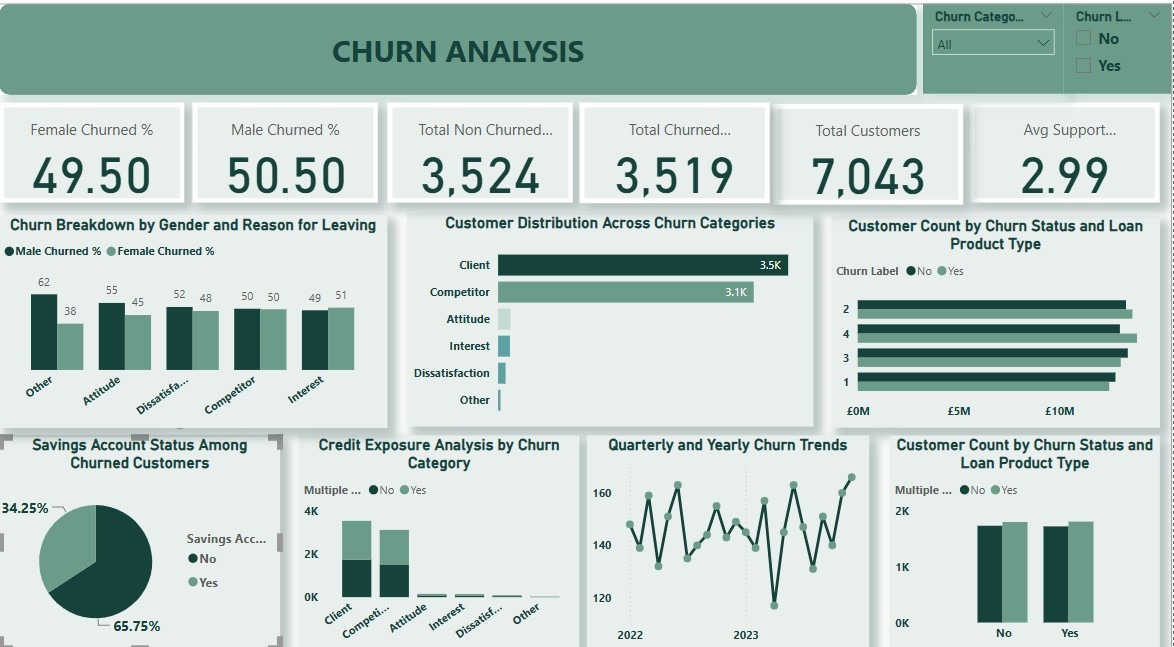

The page's visual inventory and layout, read from the dashboard file:
{"tool":"powerbi","page":{"name":"Page 1","canvas":[1280,720],"ordinal":0},"visuals":[{"type":"shape","box":[13,11.3,991,98.8],"z":0,"group":"g1"},{"type":"slicer","fields":{"Values":["CHURN DATASET.Churn Label"]},"box":[1162.7,11.3,116.6,97.2],"z":1000,"group":"g1"},{"type":"barChart","title":"Customer Distribution Across Churn Categories","fields":{"Category":["CHURN DATASET.Churn Category"],"Y":["CHURN DATASET.Total Customer"]},"box":[453.4,238,438.8,229.9],"z":2000,"group":"g1"},{"type":"pieChart","title":"Savings Account Status Among Churned Customers","fields":{"Y":["CHURN DATASET.Total Customer"],"Category":["CHURN DATASET.Savings Account"]},"box":[13,477,304,233],"z":3000,"group":"g1"},{"type":"clusteredBarChart","title":"Customer Count by Churn Status and Loan Product Type","fields":{"Category":["CHURN DATASET.Tenure_Years"],"Y":["Sum(CHURN DATASET. Credit  Exposure )"],"Series":["CHURN DATASET.Churn Label"]},"box":[911.7,241.2,354.6,228.3],"z":4000,"group":"g1"},{"type":"clusteredColumnChart","title":"Customer Count by Churn Status and Loan Product Type","fields":{"Category":["CHURN DATASET.Churn Label"],"Series":["CHURN DATASET.Multiple Loan Product"],"Y":["CHURN DATASET.Total Customer"]},"box":[974.8,477.6,291.5,231.5],"z":5000,"group":"g1"},{"type":"columnChart","title":"Credit Exposure Analysis by Churn Category ","fields":{"Category":["CHURN DATASET.Churn Category"],"Y":["CountNonNull(CHURN DATASET. Credit  Exposure )"],"Series":["CHURN DATASET.Multiple Loan Product"]},"box":[336.8,477.6,302.8,233.2],"z":6000,"group":"g1"},{"type":"cardVisual","fields":{"Data":["CHURN DATASET.Female Churned %"]},"box":[13,118.2,200,108],"z":7000,"group":"g1"},{"type":"cardVisual","fields":{"Data":["CHURN DATASET.Male Churned %"]},"box":[222.5,118.2,200,108],"z":8000,"group":"g1"},{"type":"clusteredColumnChart","title":"Churn Breakdown by Gender and Reason for Leaving","fields":{"Category":["CHURN DATASET.Churn Category"],"Y":["CHURN DATASET.Male Churned %","CHURN DATASET.Female Churned %"]},"box":[13,239.6,419.4,229.9],"z":9000,"group":"g1"},{"type":"cardVisual","fields":{"Data":["CHURN DATASET.Total Non Churned Customers"]},"box":[432.1,118.2,200,108],"z":10000,"group":"g1"},{"type":"cardVisual","fields":{"Data":["CHURN DATASET.Avg Support Interactions (Churned)"]},"box":[1060.6,118.2,205,108],"z":11000,"group":"g1"},{"type":"lineChart","title":"Quarterly and Yearly Churn Trends","fields":{"Category":["CHURN DATASET.Churn Date.Variation.Date Hierarchy.Year","CHURN DATASET.Churn Date.Variation.Date Hierarchy.Quarter","CHURN DATASET.Churn Date.Variation.Date Hierarchy.Month"],"Y":["CHURN DATASET.Monthly Churn Count"]},"box":[647.7,477.6,304.4,233.2],"z":12000,"group":"g1"},{"type":"slicer","fields":{"Values":["CHURN DATASET.Churn Category"]},"box":[1010.4,11.3,152.2,97.2],"z":13000,"group":"g1"},{"type":"cardVisual","fields":{"Data":["CHURN DATASET.Total Customer"]},"box":[848.5,119.8,205.6,108.5],"z":14000,"group":"g1"},{"type":"cardVisual","fields":{"Data":["CHURN DATASET.Total Churned Customers"]},"box":[639.6,118.2,205.6,108.5],"z":15000,"group":"g1"},{"type":"group","id":"g1","title":"Group 1","box":[13,11.3,1266.2,699.5],"z":15004}]}

Visuals, with their boxes in screenshot pixels (x1, y1, x2, y2), scaled from the page's 1280x720 canvas onto the 1174x647 screenshot:
shape: locate(12, 10, 921, 99)
slicer - CHURN DATASET.Churn Label: locate(1066, 10, 1173, 97)
"Customer Distribution Across Churn Categories" barChart: locate(416, 214, 818, 420)
"Savings Account Status Among Churned Customers" pieChart: locate(12, 429, 291, 638)
"Customer Count by Churn Status and Loan Product Type" clusteredBarChart: locate(836, 217, 1161, 422)
"Customer Count by Churn Status and Loan Product Type" clusteredColumnChart: locate(894, 429, 1161, 637)
"Credit Exposure Analysis by Churn Category " columnChart: locate(309, 429, 587, 639)
cardVisual - CHURN DATASET.Female Churned %: locate(12, 106, 195, 203)
cardVisual - CHURN DATASET.Male Churned %: locate(204, 106, 388, 203)
"Churn Breakdown by Gender and Reason for Leaving" clusteredColumnChart: locate(12, 215, 397, 422)
cardVisual - CHURN DATASET.Total Non Churned Customers: locate(396, 106, 580, 203)
cardVisual - CHURN DATASET.Avg Support Interactions (Churned): locate(973, 106, 1161, 203)
"Quarterly and Yearly Churn Trends" lineChart: locate(594, 429, 873, 639)
slicer - CHURN DATASET.Churn Category: locate(927, 10, 1066, 97)
cardVisual - CHURN DATASET.Total Customer: locate(778, 108, 967, 205)
cardVisual - CHURN DATASET.Total Churned Customers: locate(587, 106, 775, 204)
"Group 1" group: locate(12, 10, 1173, 639)
